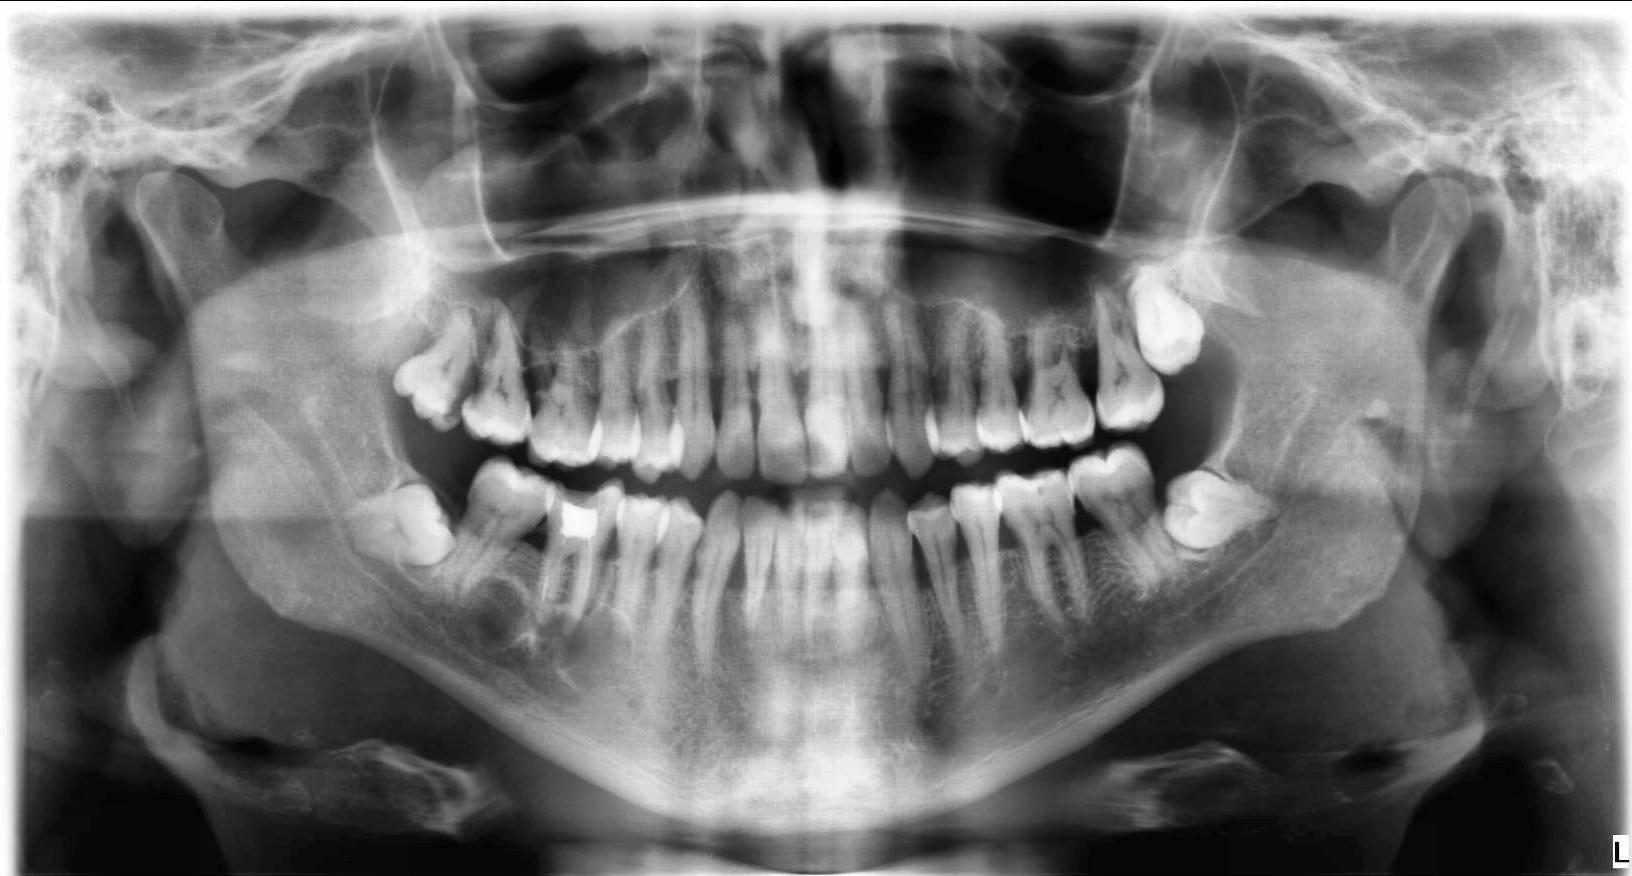radikuler: (456, 574, 634, 695)
